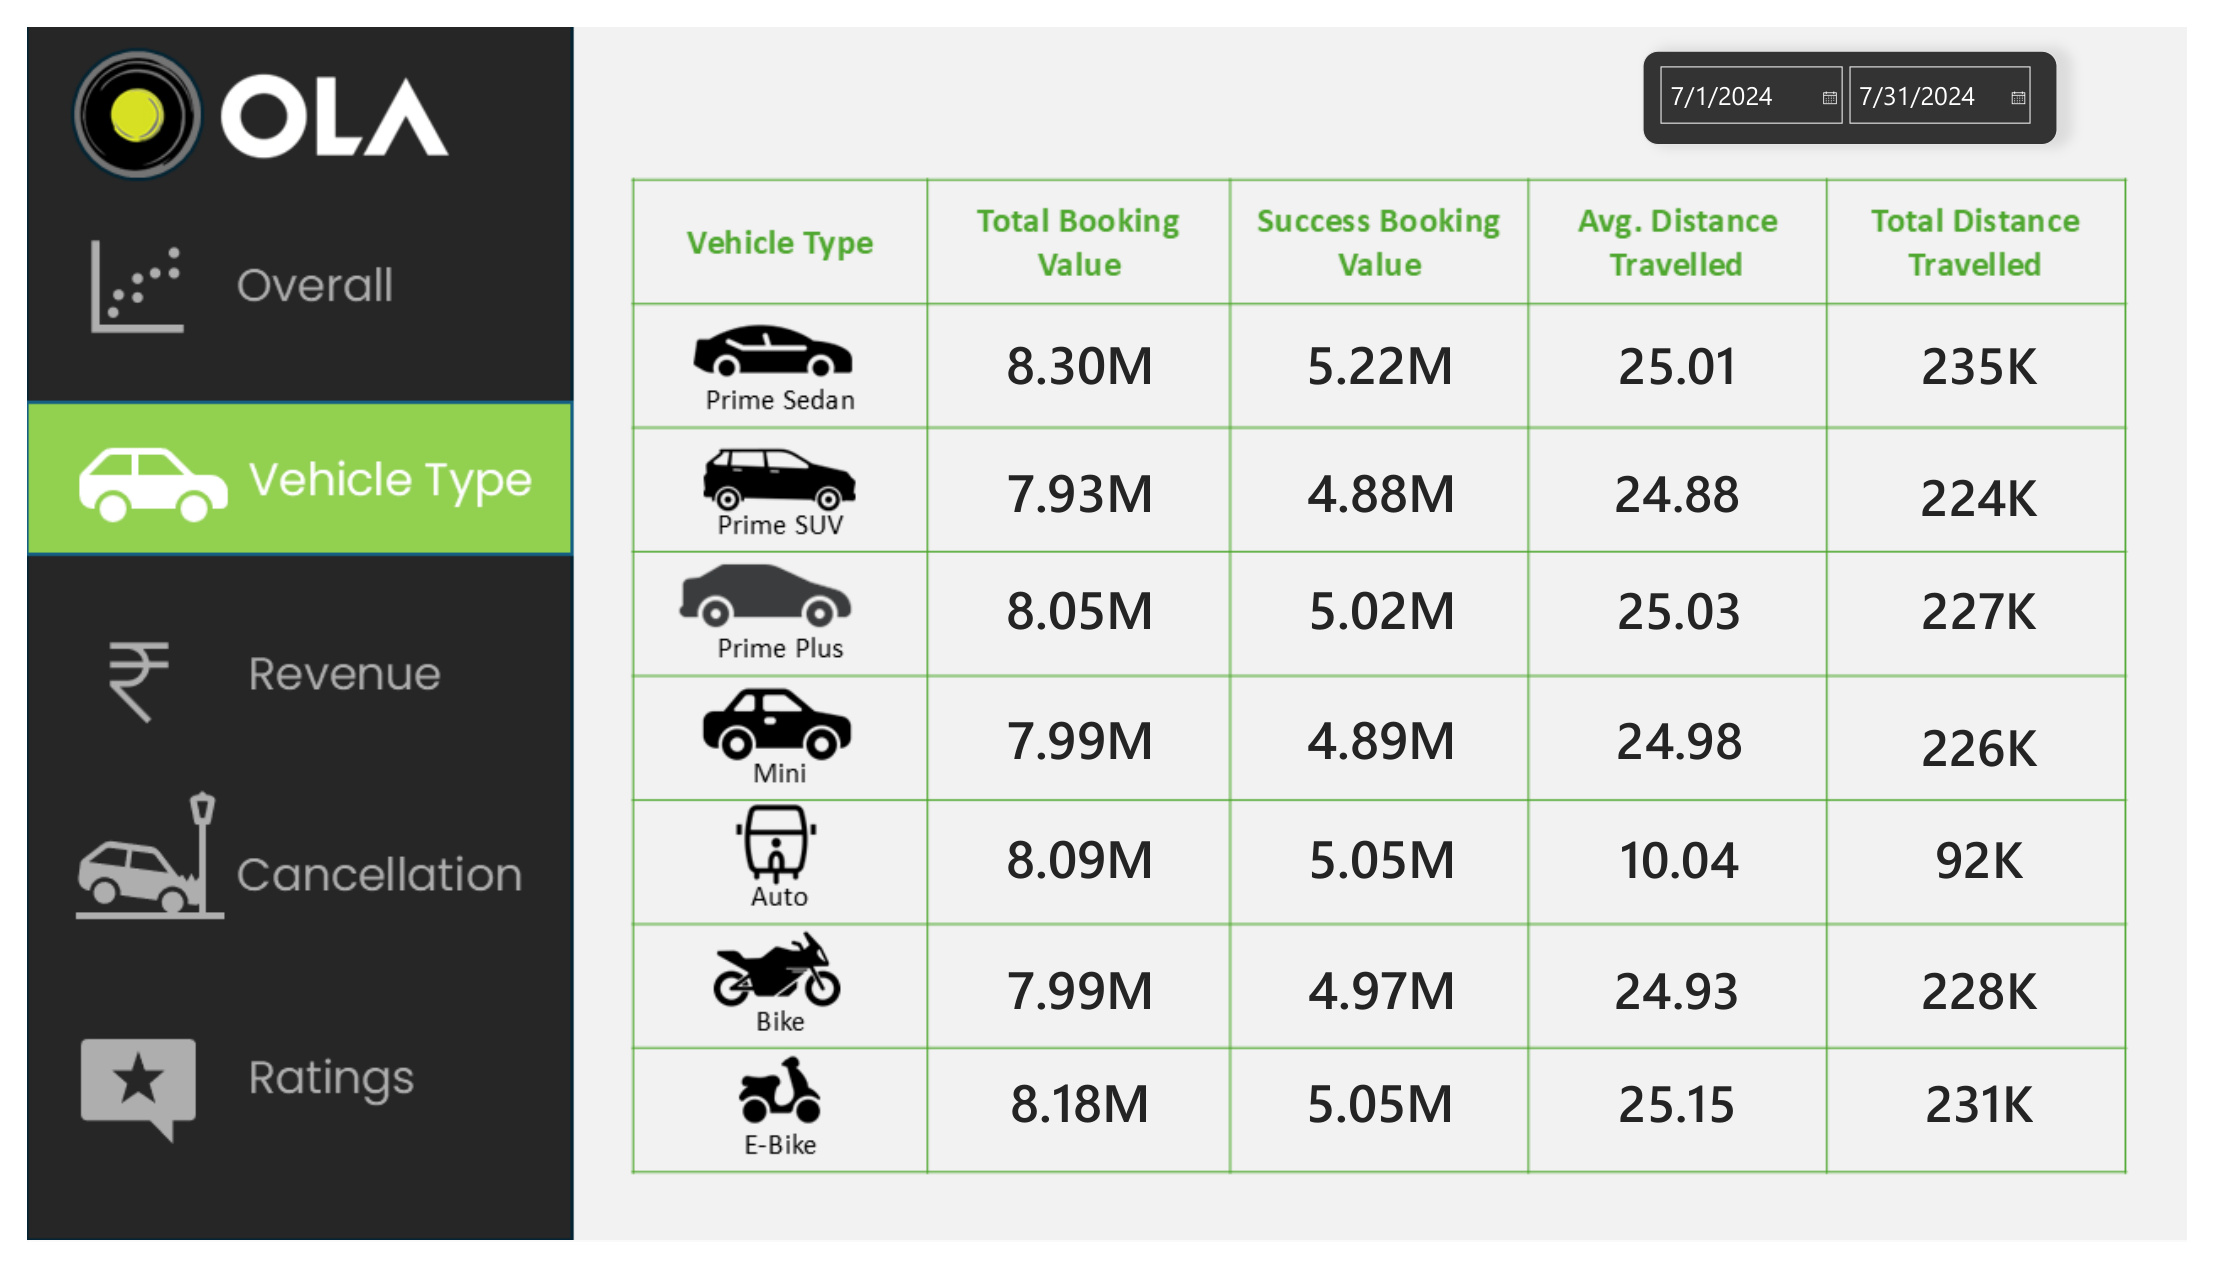

What the dashboard file says about the page in this screenshot:
{"tool":"powerbi","page":{"name":"Vehicle Type","canvas":[1920,1080],"ordinal":1},"visuals":[{"type":"actionButton","box":[0,333,481.4,130.3],"z":0},{"type":"actionButton","box":[0,159.3,481.4,130.3],"z":1000},{"type":"actionButton","box":[0,501.3,481.4,130.3],"z":2000},{"type":"actionButton","box":[0,673.2,481.4,130.3],"z":3000},{"type":"actionButton","box":[0,872.3,481.4,130.3],"z":4000},{"type":"cardVisual","fields":{"Data":["Sum(July.Booking_Value)"]},"box":[812.5,248.2,248.2,100],"z":5000},{"type":"cardVisual","fields":{"Data":["Sum(July.Booking_Value)"]},"box":[812.5,362.5,248.2,100],"z":6000},{"type":"cardVisual","fields":{"Data":["Sum(July.Booking_Value)"]},"box":[812.5,466.1,248.2,100],"z":7000},{"type":"cardVisual","fields":{"Data":["Sum(July.Booking_Value)"]},"box":[812.5,903.6,248.2,100],"z":8000},{"type":"cardVisual","fields":{"Data":["Sum(July.Booking_Value)"]},"box":[812.5,803.6,248.2,100],"z":9000},{"type":"cardVisual","fields":{"Data":["Sum(July.Booking_Value)"]},"box":[812.5,687.5,248.2,100],"z":10000},{"type":"cardVisual","fields":{"Data":["Sum(July.Booking_Value)"]},"box":[812.5,582.1,248.2,100],"z":11000},{"type":"cardVisual","fields":{"Data":["Sum(July.Booking_Value)"]},"box":[1078.6,248.2,248.2,100],"z":12000},{"type":"cardVisual","fields":{"Data":["Sum(July.Booking_Value)"]},"box":[1080.4,362.5,248.2,100],"z":13000},{"type":"cardVisual","fields":{"Data":["Sum(July.Booking_Value)"]},"box":[1080.4,466.1,248.2,100],"z":14000},{"type":"cardVisual","fields":{"Data":["Sum(July.Booking_Value)"]},"box":[1080.4,582.1,248.2,100],"z":15000},{"type":"cardVisual","fields":{"Data":["Sum(July.Booking_Value)"]},"box":[1080.4,687.5,248.2,100],"z":16000},{"type":"cardVisual","fields":{"Data":["Sum(July.Booking_Value)"]},"box":[1080.4,803.6,248.2,100],"z":17000},{"type":"cardVisual","fields":{"Data":["Sum(July.Booking_Value)"]},"box":[1078.6,903.6,248.2,100],"z":18000},{"type":"cardVisual","fields":{"Data":["Avg(July.Ride_Distance)"]},"box":[1342.9,248.2,248.2,100],"z":19000},{"type":"cardVisual","fields":{"Data":["Avg(July.Ride_Distance)"]},"box":[1342.9,362.5,248.2,100],"z":20000},{"type":"cardVisual","fields":{"Data":["Avg(July.Ride_Distance)"]},"box":[1344.6,466.1,248.2,100],"z":21000},{"type":"cardVisual","fields":{"Data":["Avg(July.Ride_Distance)"]},"box":[1344.6,582.1,248.2,100],"z":22000},{"type":"cardVisual","fields":{"Data":["Avg(July.Ride_Distance)"]},"box":[1344.6,687.5,248.2,100],"z":23000},{"type":"cardVisual","fields":{"Data":["Avg(July.Ride_Distance)"]},"box":[1342.9,803.6,248.2,100],"z":24000},{"type":"cardVisual","fields":{"Data":["Avg(July.Ride_Distance)"]},"box":[1342.9,903.6,248.2,100],"z":25000},{"type":"cardVisual","fields":{"Data":["Sum(July.Ride_Distance)"]},"box":[1610.7,248.2,248.2,100],"z":26000},{"type":"cardVisual","fields":{"Data":["Sum(July.Ride_Distance)"]},"box":[1610.7,366.1,248.2,100],"z":27000},{"type":"cardVisual","fields":{"Data":["Sum(July.Ride_Distance)"]},"box":[1610.7,466.1,248.2,100],"z":28000},{"type":"cardVisual","fields":{"Data":["Sum(July.Ride_Distance)"]},"box":[1610.7,587.5,248.2,100],"z":29000},{"type":"cardVisual","fields":{"Data":["Sum(July.Ride_Distance)"]},"box":[1610.7,687.5,248.2,100],"z":30000},{"type":"cardVisual","fields":{"Data":["Sum(July.Ride_Distance)"]},"box":[1610.7,803.6,248.2,100],"z":31000},{"type":"cardVisual","fields":{"Data":["Sum(July.Ride_Distance)"]},"box":[1610.7,903.6,248.2,100],"z":32000},{"type":"slicer","title":"Date","fields":{"Values":["July.Date"]},"box":[1435.7,21.4,369.6,83.9],"z":33000}]}

Visuals, with their boxes in screenshot pixels (x1, y1, x2, y2), scaled from the page's 1920x1080 canvas onto the 2214x1269 screenshot:
actionButton: 0/391/555/544
actionButton: 0/187/555/340
actionButton: 0/589/555/742
actionButton: 0/791/555/944
actionButton: 0/1025/555/1178
cardVisual - Sum(July.Booking_Value): 937/292/1223/409
cardVisual - Sum(July.Booking_Value): 937/426/1223/543
cardVisual - Sum(July.Booking_Value): 937/548/1223/665
cardVisual - Sum(July.Booking_Value): 937/1062/1223/1179
cardVisual - Sum(July.Booking_Value): 937/944/1223/1062
cardVisual - Sum(July.Booking_Value): 937/808/1223/925
cardVisual - Sum(July.Booking_Value): 937/684/1223/801
cardVisual - Sum(July.Booking_Value): 1244/292/1530/409
cardVisual - Sum(July.Booking_Value): 1246/426/1532/543
cardVisual - Sum(July.Booking_Value): 1246/548/1532/665
cardVisual - Sum(July.Booking_Value): 1246/684/1532/801
cardVisual - Sum(July.Booking_Value): 1246/808/1532/925
cardVisual - Sum(July.Booking_Value): 1246/944/1532/1062
cardVisual - Sum(July.Booking_Value): 1244/1062/1530/1179
cardVisual - Avg(July.Ride_Distance): 1549/292/1835/409
cardVisual - Avg(July.Ride_Distance): 1549/426/1835/543
cardVisual - Avg(July.Ride_Distance): 1550/548/1837/665
cardVisual - Avg(July.Ride_Distance): 1550/684/1837/801
cardVisual - Avg(July.Ride_Distance): 1550/808/1837/925
cardVisual - Avg(July.Ride_Distance): 1549/944/1835/1062
cardVisual - Avg(July.Ride_Distance): 1549/1062/1835/1179
cardVisual - Sum(July.Ride_Distance): 1857/292/2144/409
cardVisual - Sum(July.Ride_Distance): 1857/430/2144/548
cardVisual - Sum(July.Ride_Distance): 1857/548/2144/665
cardVisual - Sum(July.Ride_Distance): 1857/690/2144/808
cardVisual - Sum(July.Ride_Distance): 1857/808/2144/925
cardVisual - Sum(July.Ride_Distance): 1857/944/2144/1062
cardVisual - Sum(July.Ride_Distance): 1857/1062/2144/1179
"Date" slicer: 1656/25/2082/124
